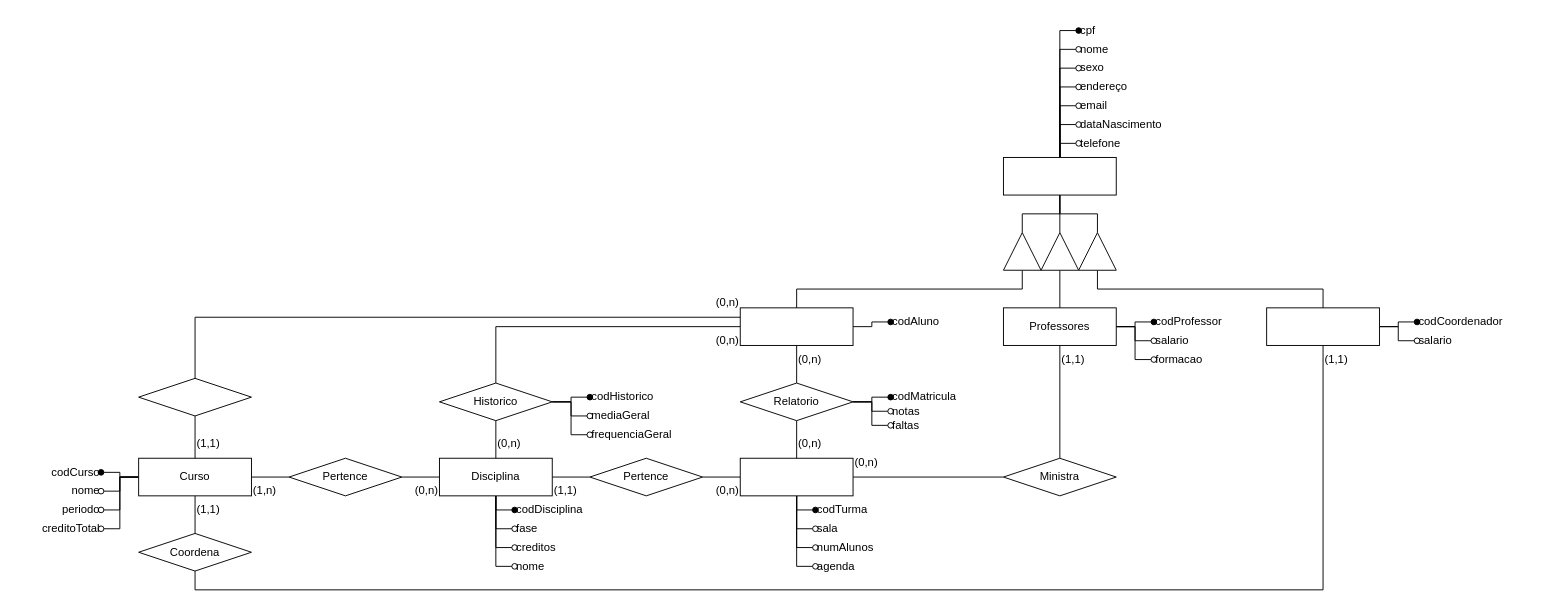
Some shapes in this 1545 by 607 pixel diagram are drawn without their labels. The shapes that lost their labels are listed below. From the top down, each one's centre as x and y in pixels, then its label:
At point 1059,176: "Pessoa".
At point 796,326: "Alunos".
At point 1322,326: "Coordenador".
At point 194,396: "Matricula".
At point 796,476: "Turma".
